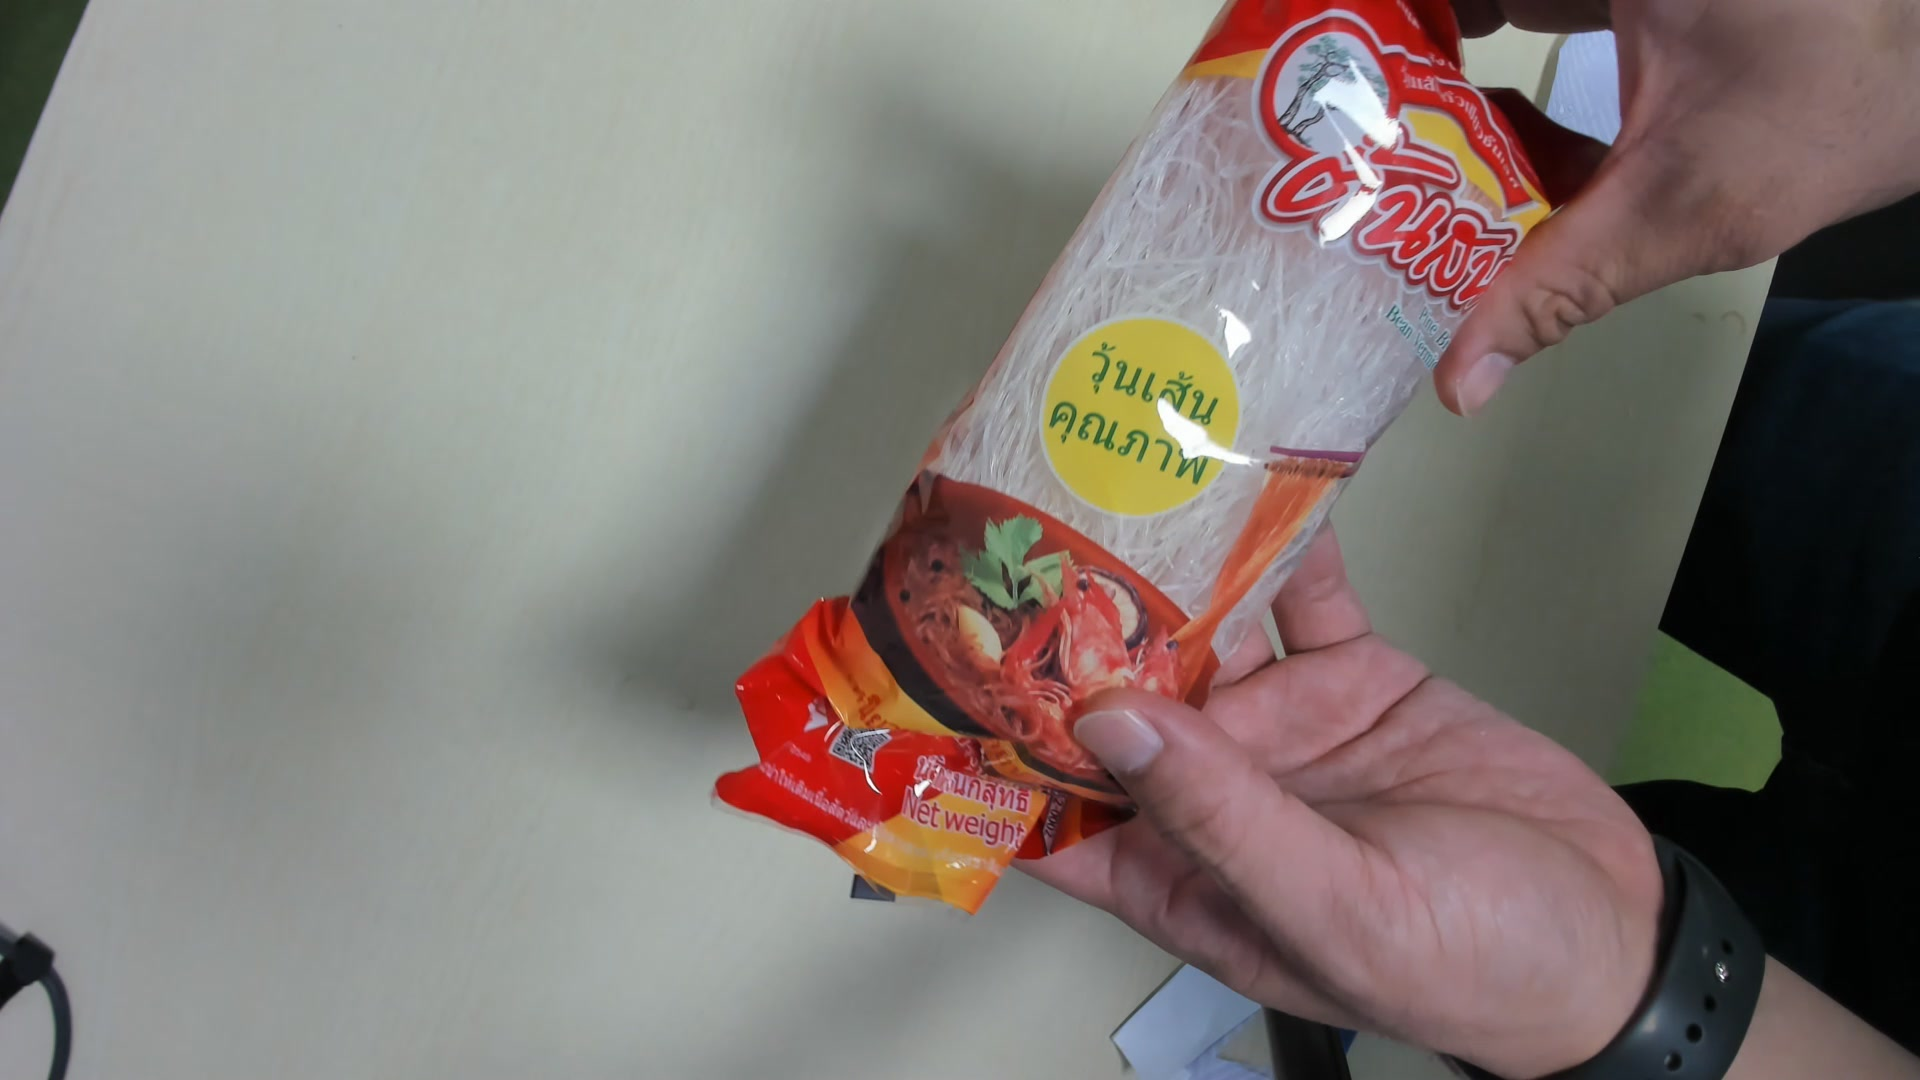BeeHoonVermicelli_0-99g_Halal_NonHealthy: (731, 11, 1560, 922)
